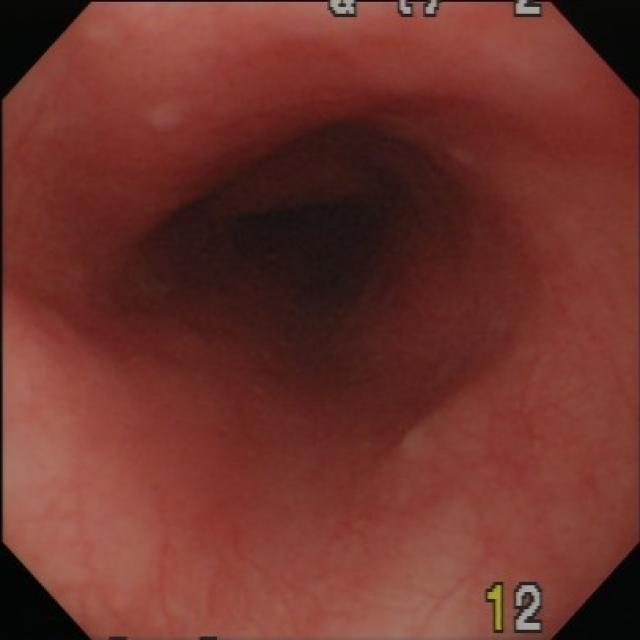E: (218, 182, 402, 328)
S: (485, 581, 547, 636), (325, 3, 545, 18)
